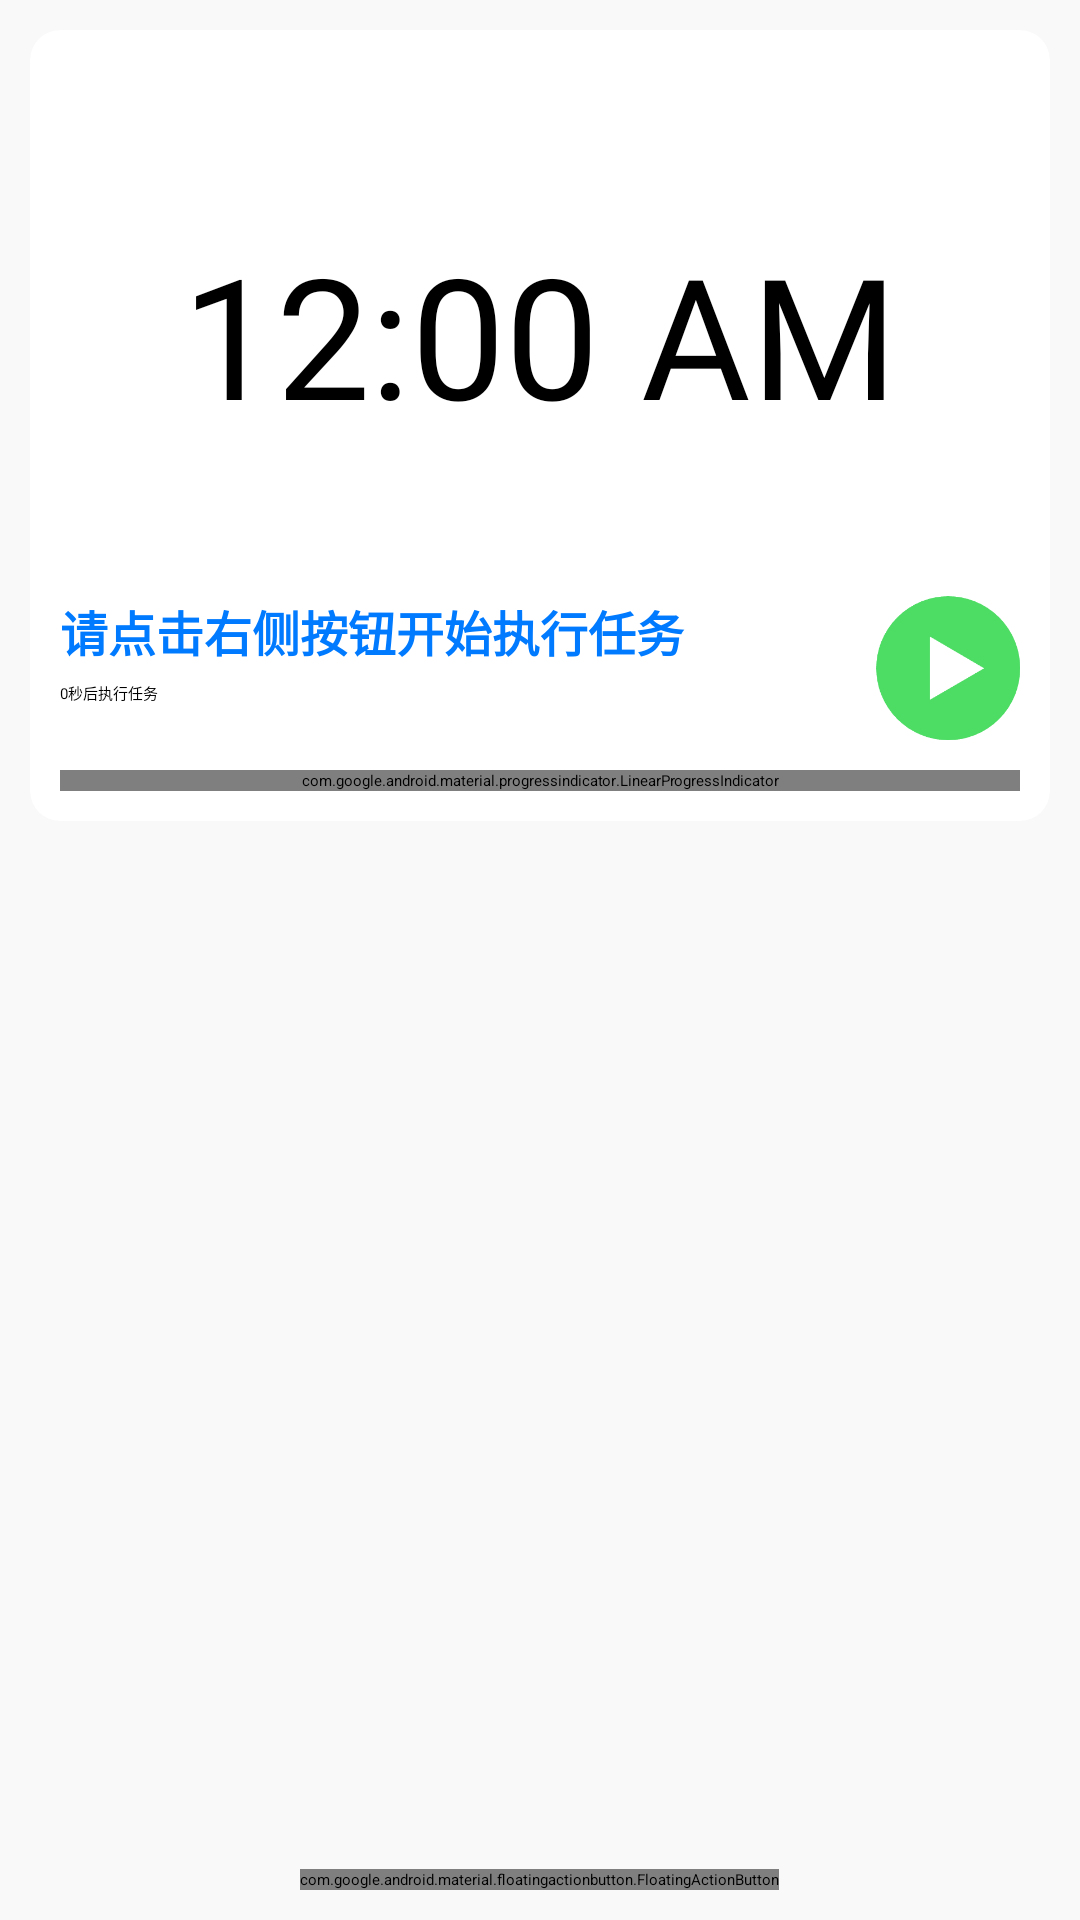

Where to tap for icons on this 1080w x 1920h app screen, as [x,y]:
start: [948,668]
